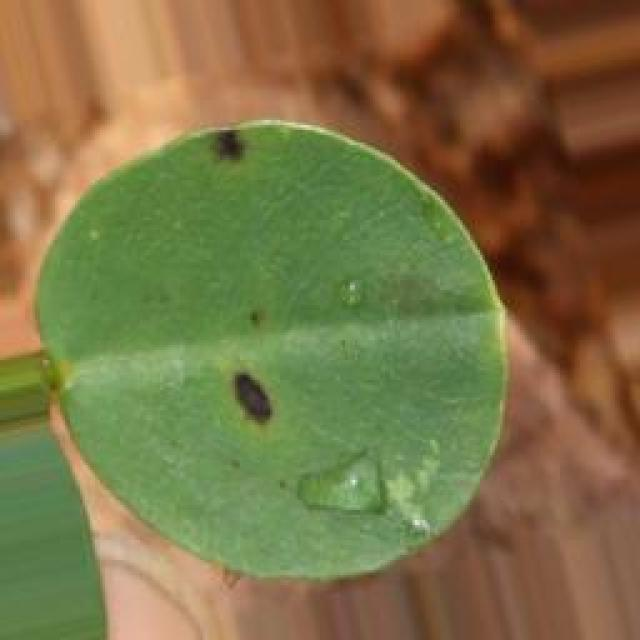Yellowish: (144, 39, 308, 210), (178, 245, 292, 452)
